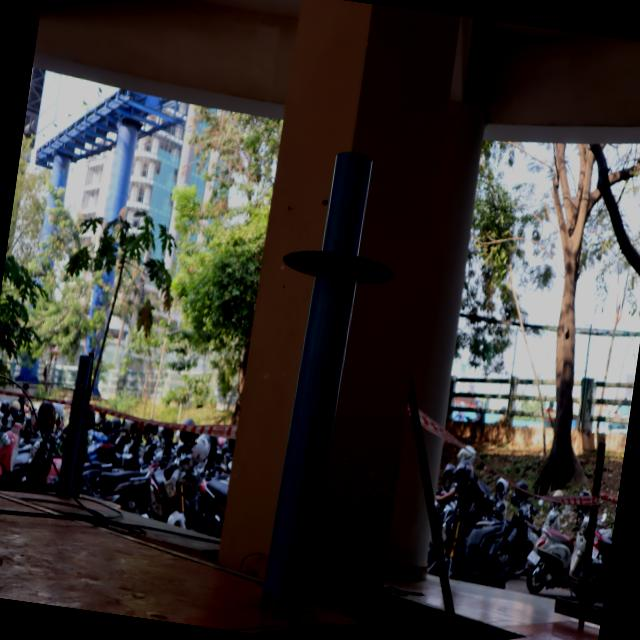pole: (263, 143, 410, 351)
